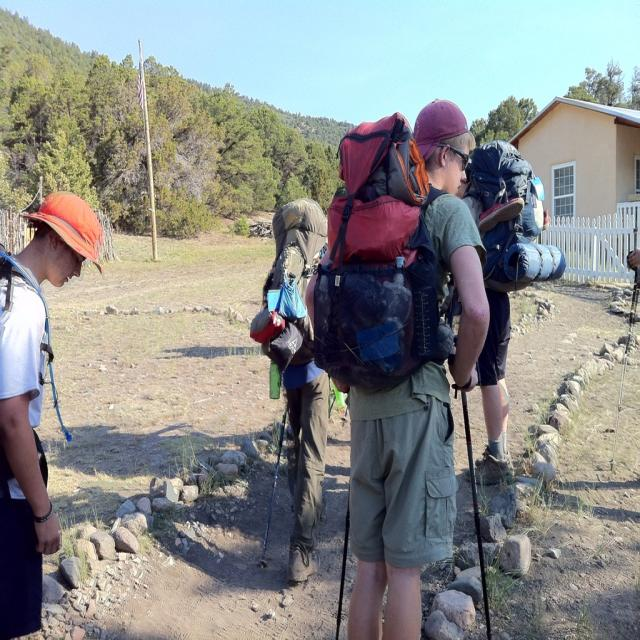backpack: (312, 118, 440, 381), (462, 142, 542, 294), (259, 202, 329, 372)
